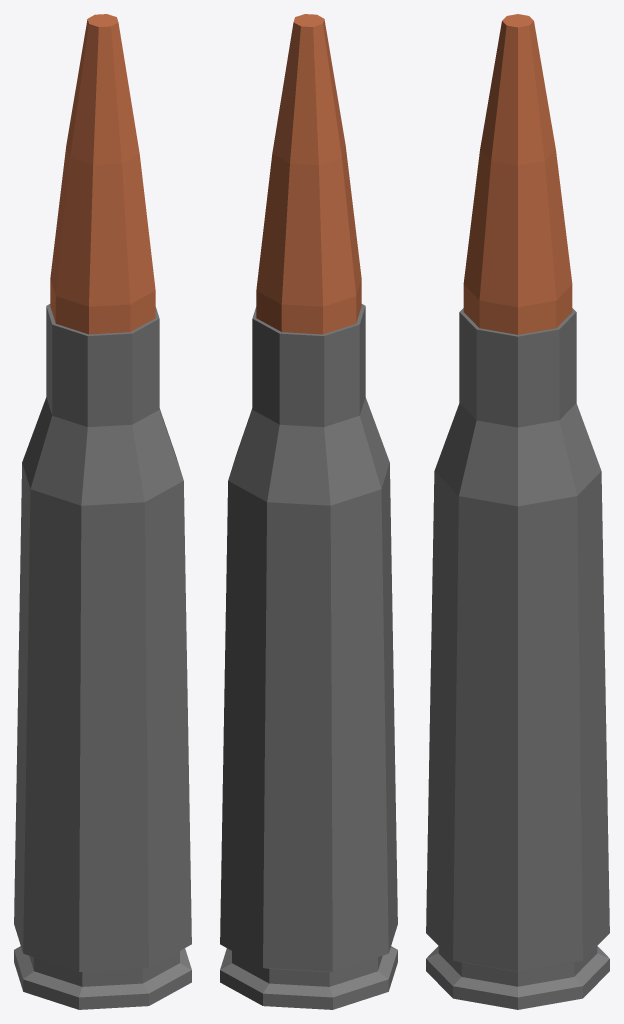
File: CRT-762.fbx
The picture shows the model from 3 angles, left to right: view 1: azimuth 30°, elevation 25°; view 2: azimuth 150°, elevation 25°; view 3: azimuth 270°, elevation 25°; orthographic projection.
Visible parts, largest first — view 1: Cylinder.008; view 2: Cylinder.008; view 3: Cylinder.008.
Part boxes in pixels (box(x1,y1,x2,y2)): Cylinder.008: box(14, 14, 191, 1009); Cylinder.008: box(220, 14, 397, 1009); Cylinder.008: box(426, 14, 609, 1009).
Size of the model in its own units: 28.31 by 161 by 28.31.
